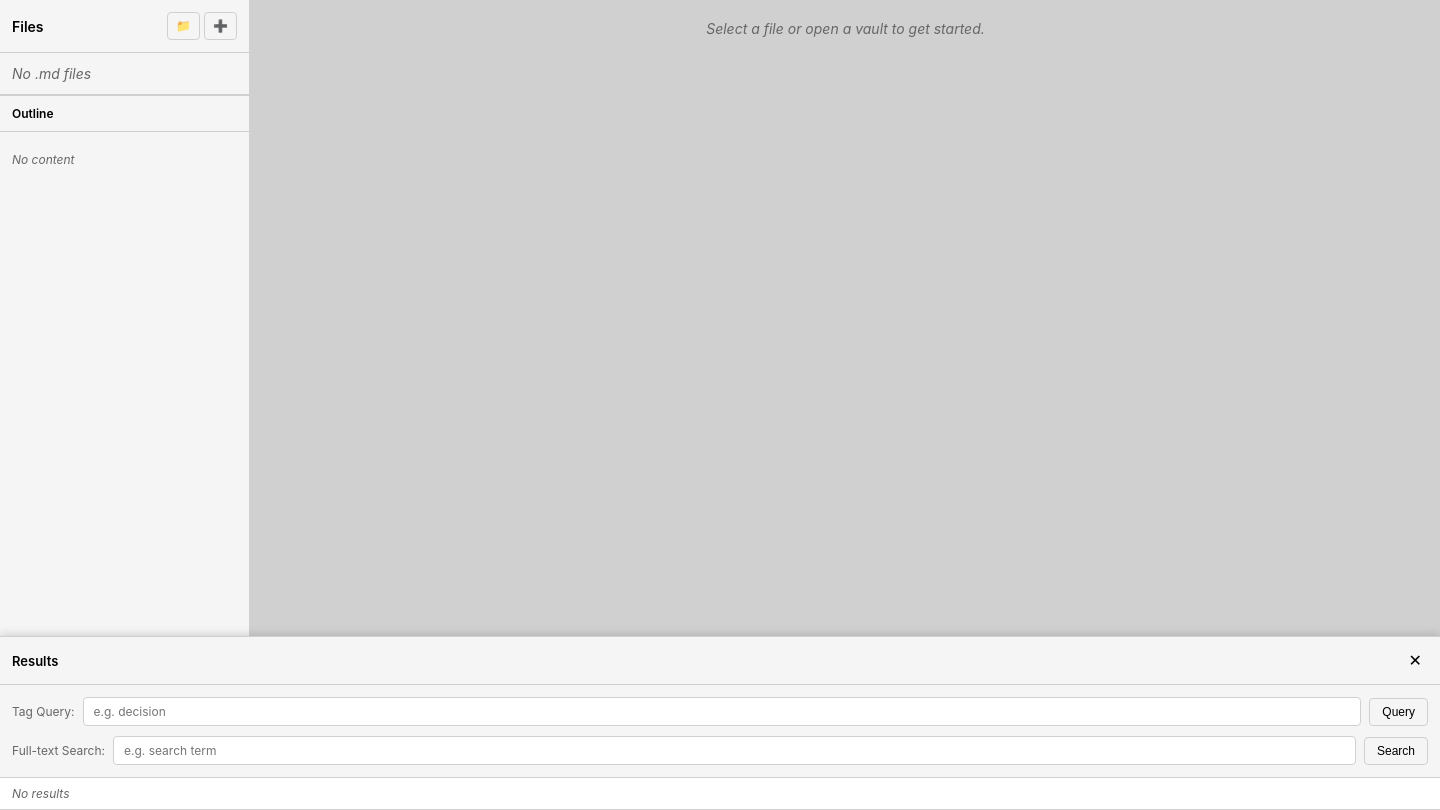
Test case: AppShell full-text search flow › runs full-text search and navigates to a result
In the field with placeholder "e.g. search term": coordinates (734, 750) 113,736 -> 1356,765, type "matching"
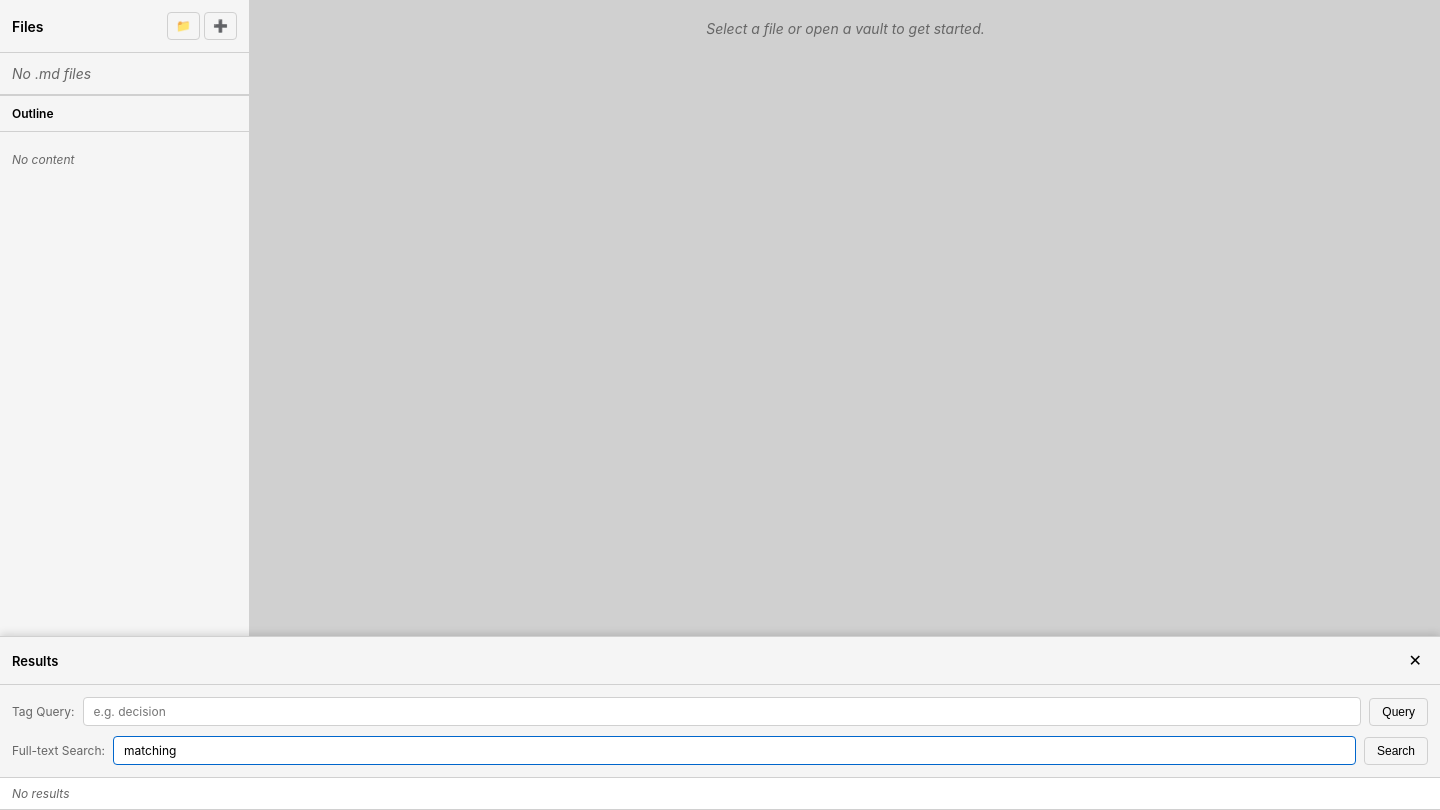
Click the button "Search": coordinates (1396, 750) 1364,736 -> 1428,764
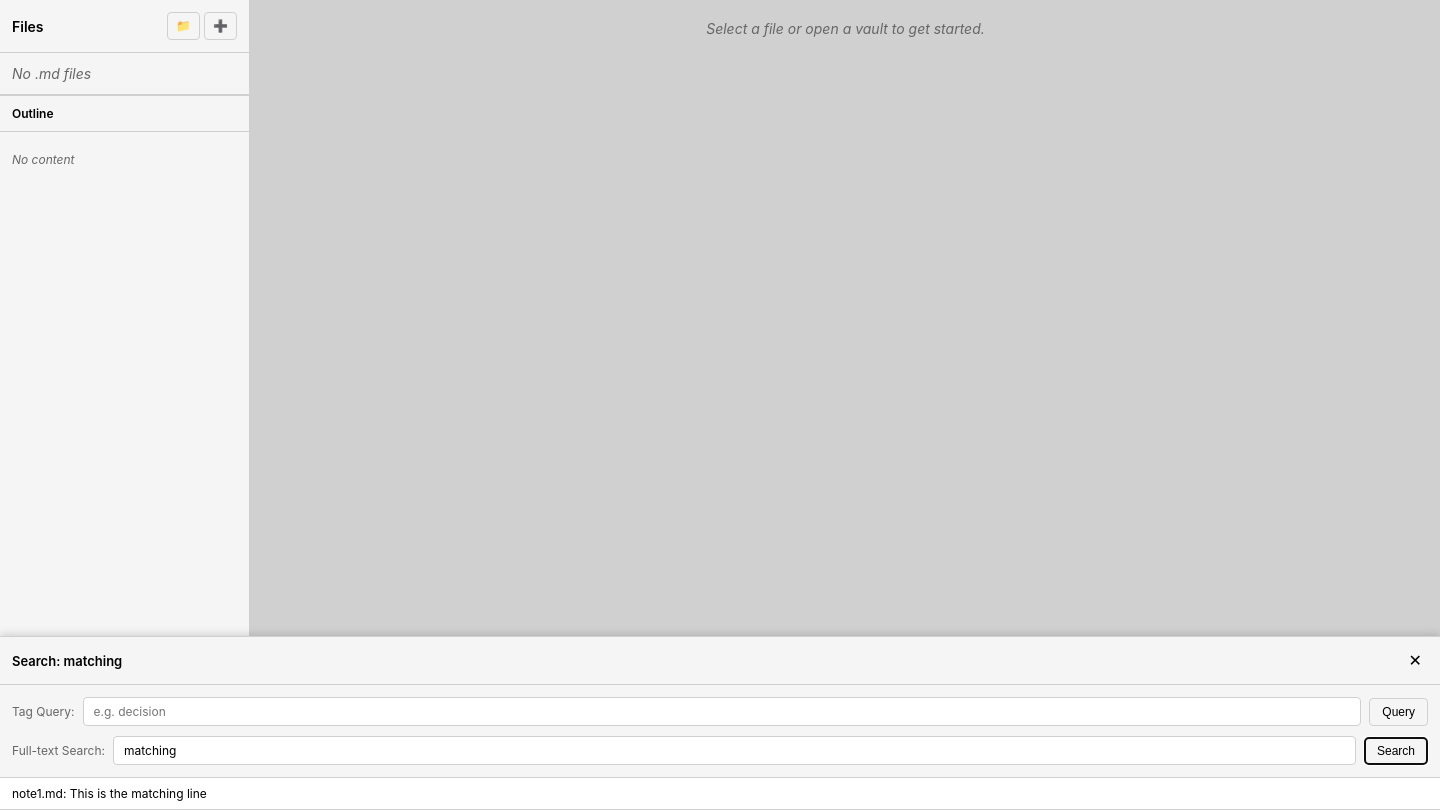
Click the list item "note1.md: This is the matching line": coordinates (720, 794) 0,778 -> 1439,809
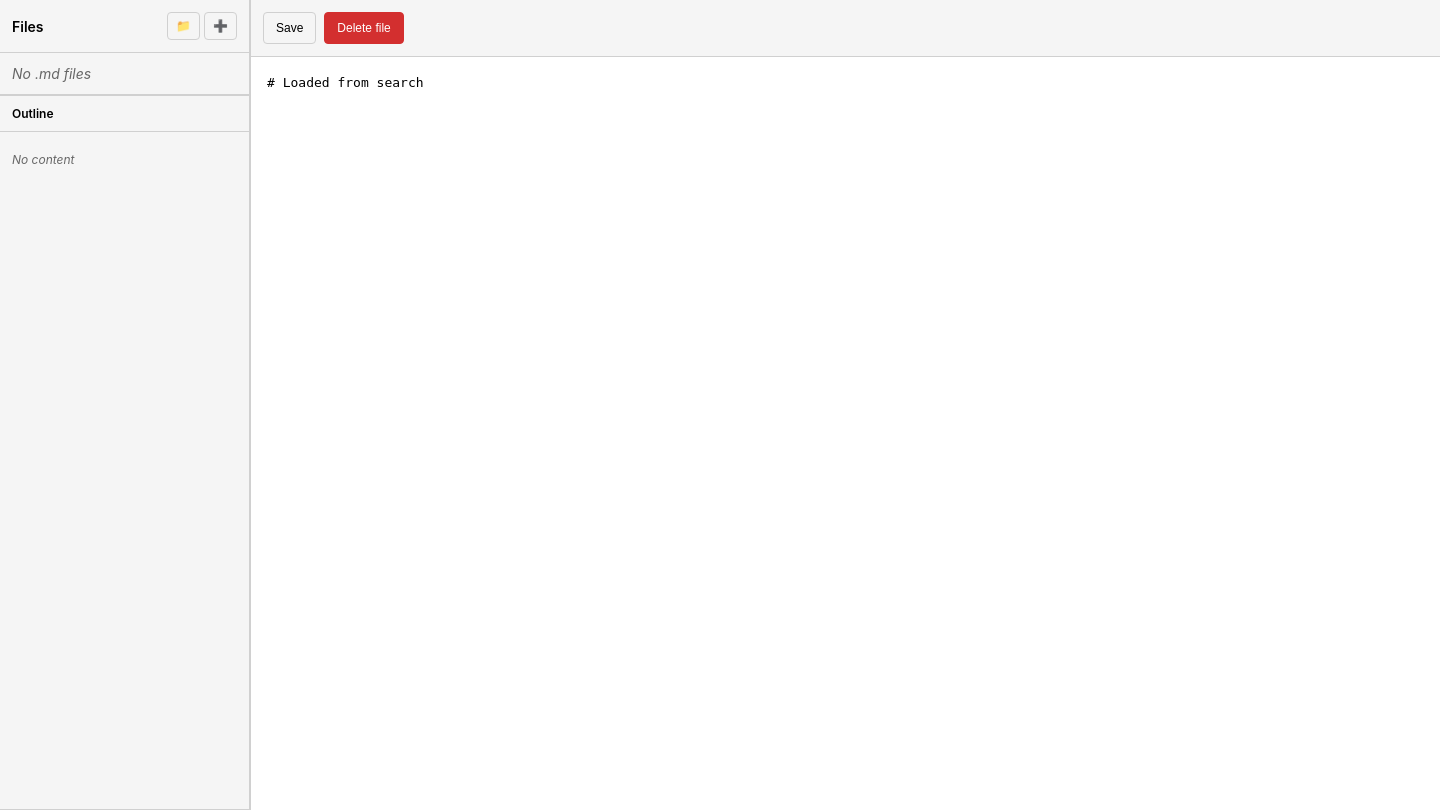
expect the text "Full-text Search:" is not shown: met
expect the text box with placeholder "Markdown content..." holds "# Loaded from search": met
